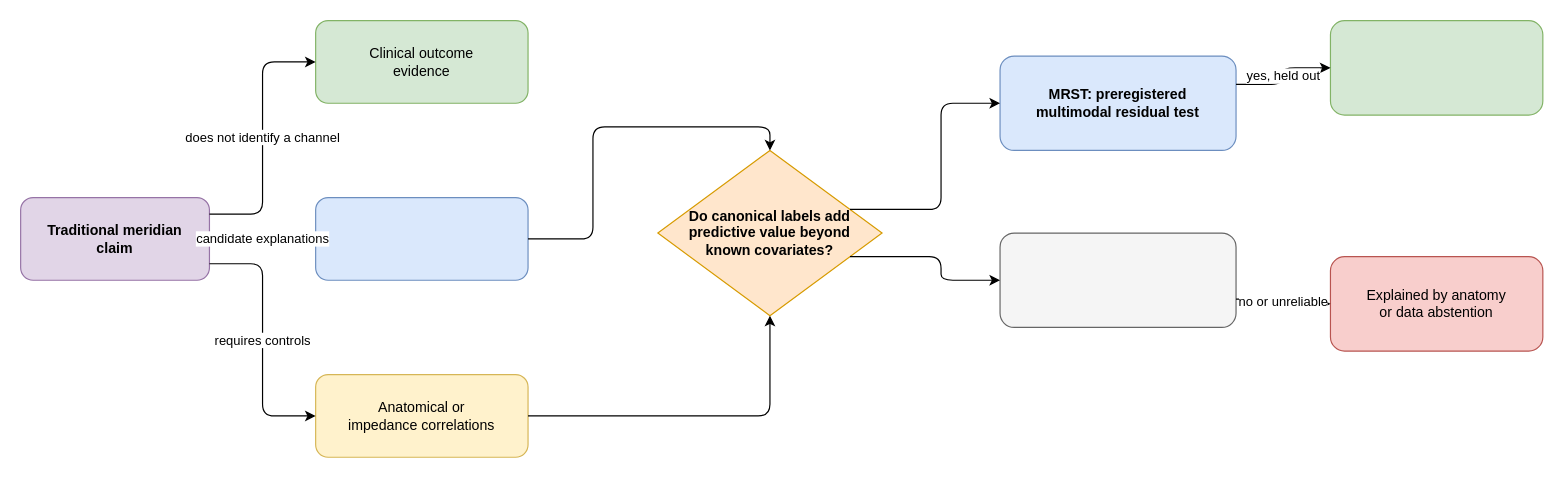
Some shapes in this 1563 by 478 pixel diagram are drawn without their labels. The shapes that lost their labels are listed below. From the top down, each one's box as (x1, y1, x2, y2) in pixels, then its label:
(1329, 19, 1543, 115): Residual signal: replication required
(314, 196, 528, 280): Local neural and tissue mechanisms
(999, 232, 1236, 327): Anatomy-matched and shifted controls
